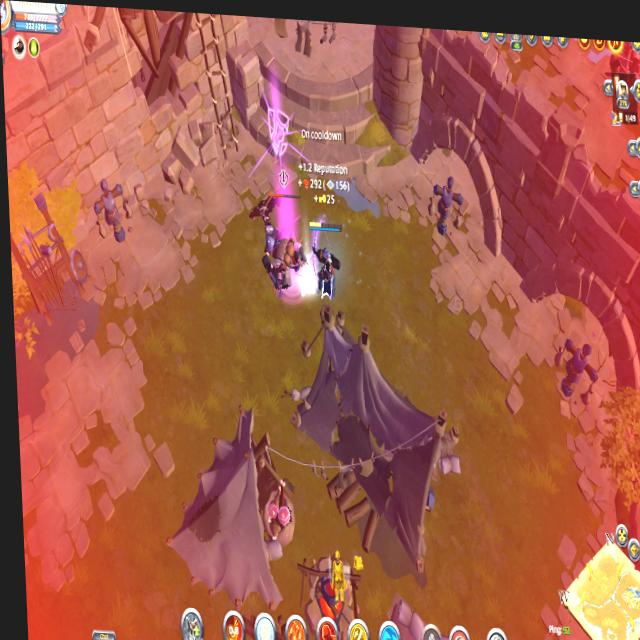ore: (252, 187, 305, 306)
red: (305, 214, 348, 303)
stone: (301, 273, 317, 302)
